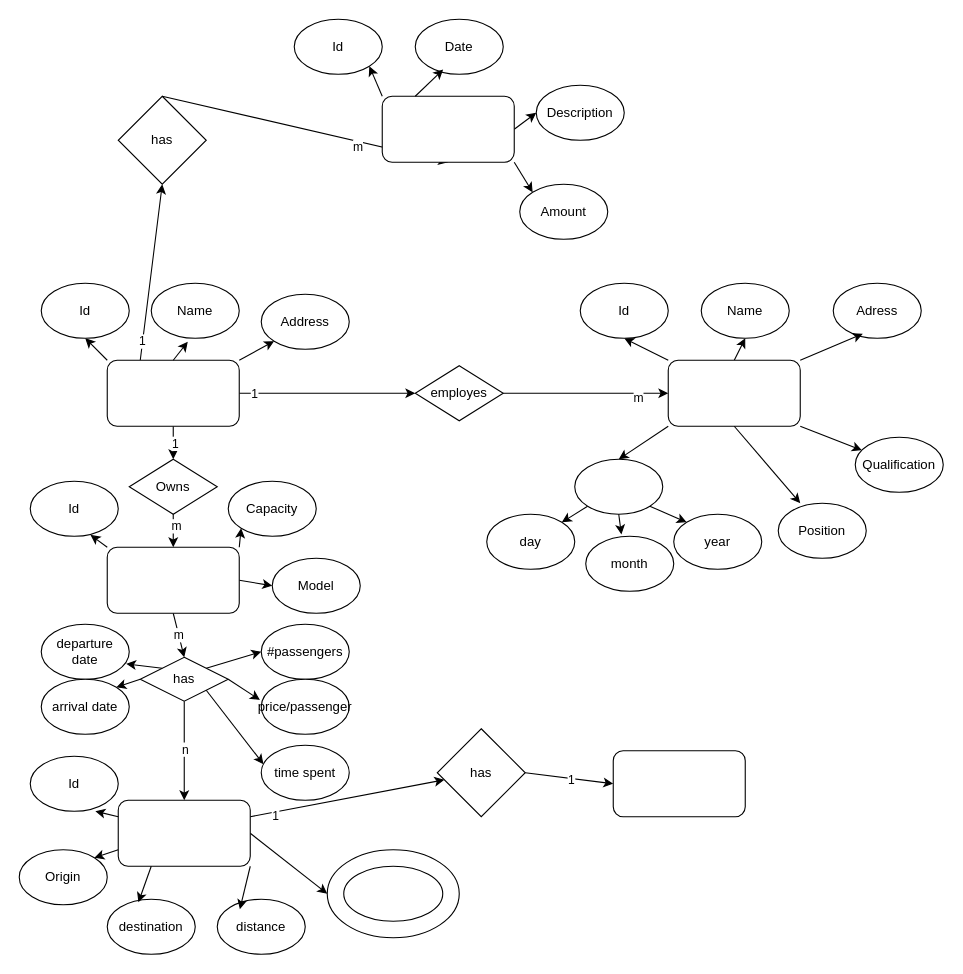
The diagram is 963 pixels wide and 974 high, and some of its shapes have lost their labels. The centre of each missing label's shape, as x and y in pixels:
"Aircraft" belongs at point (172, 579).
"Airline" belongs at point (172, 392).
"Birthday" belongs at point (618, 486).
"classification" belongs at point (393, 893).
"Crew" belongs at point (678, 783).
"Employee" belongs at point (733, 392).
"Route" belongs at point (183, 832).
"Transaction" belongs at point (447, 128).
